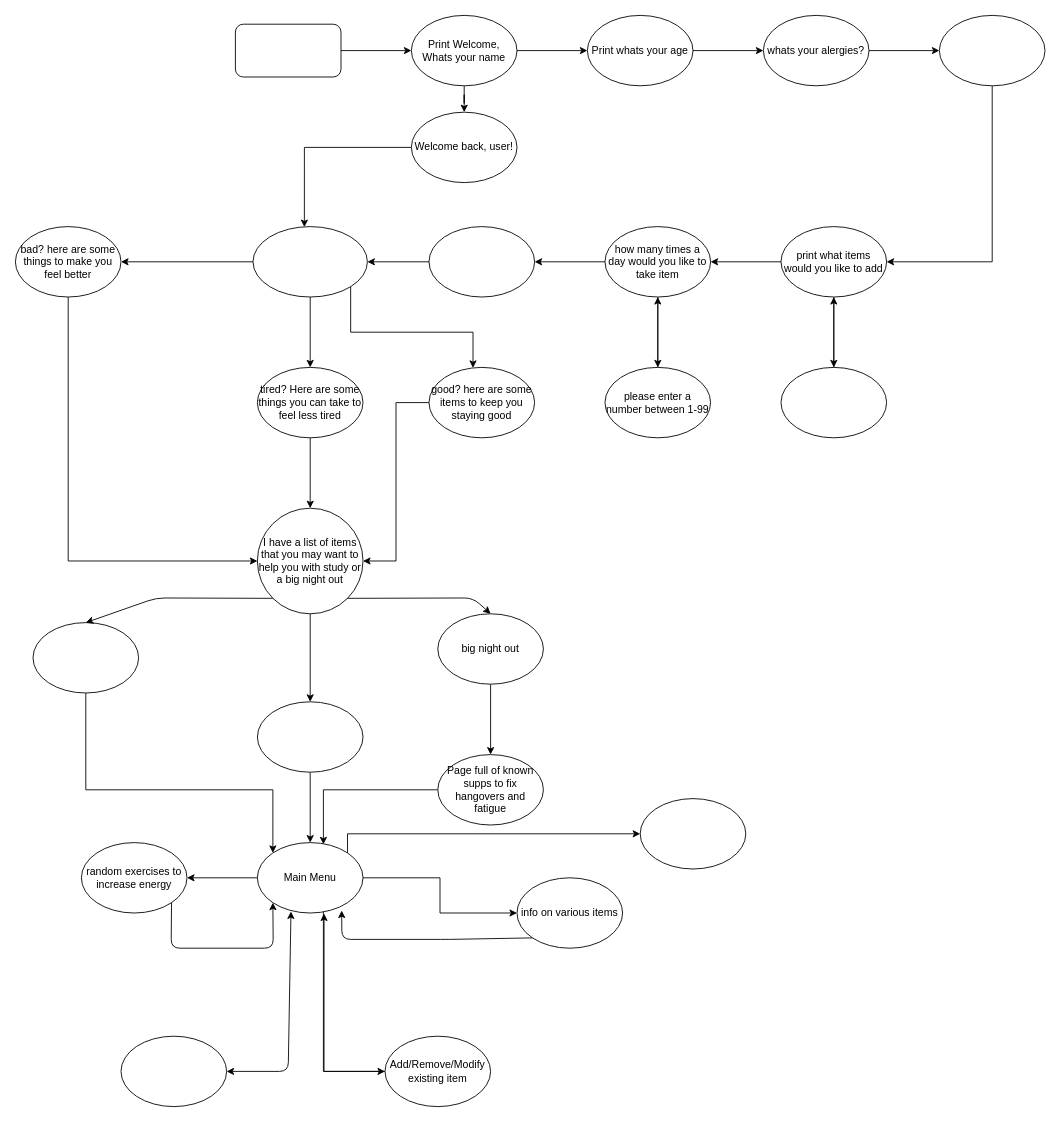
Some shapes in this 1060 by 1122 pixel diagram are drawn without their labels. The centre of each missing label's shape, as x and y in pixels:
"exit" goes at [692,833].
"hello user, you have taken x, you need to take x more" goes at [481,261].
"how are you feeling? good/bad/tired?" goes at [309,261].
"Im fine" goes at [310,736].
"invalid item, please re-enter" goes at [833,402].
"Items you need to take or not" goes at [173,1071].
"Run Ruby.rb" goes at [288,50].
"studying" goes at [85,657].
"whats your weight?" goes at [992,50].
